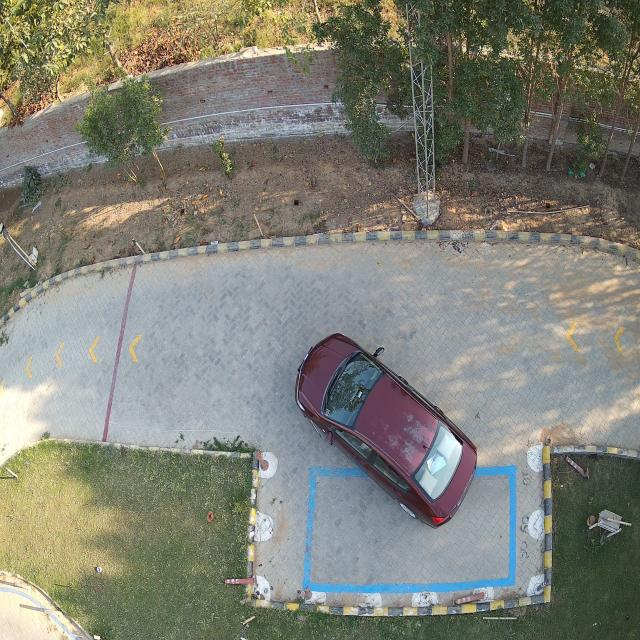car: (295, 334, 479, 529)
